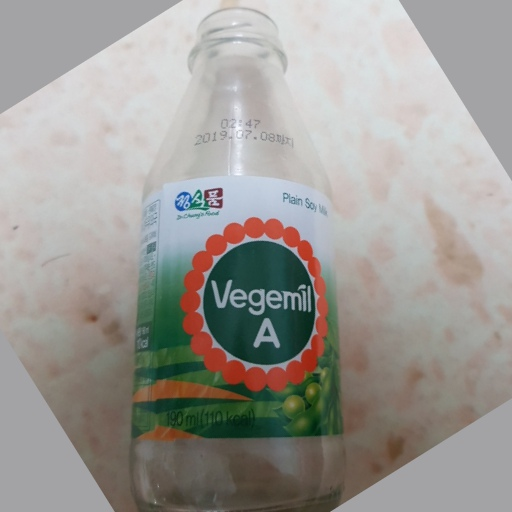Glass_4: (120, 12, 348, 512)
